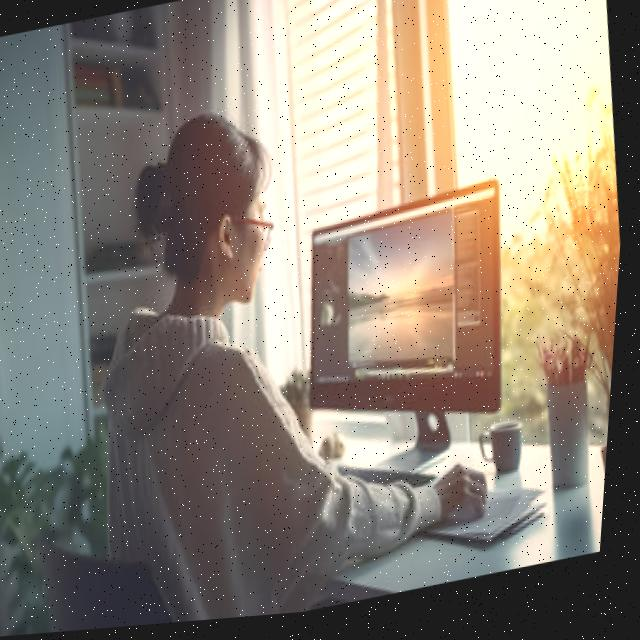desktop-person: (38, 19, 581, 635)
